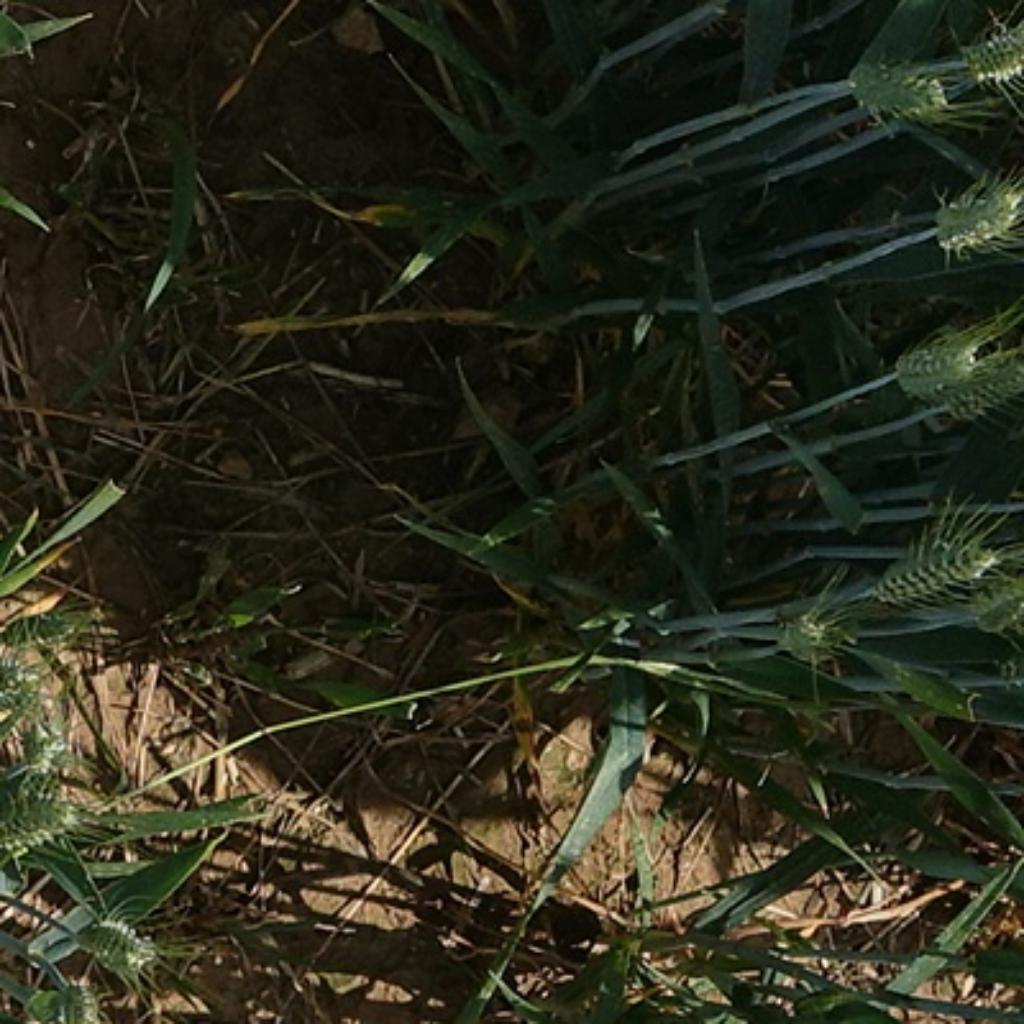0-0: (871, 529, 1004, 616), (886, 321, 1009, 400), (836, 53, 951, 135), (932, 172, 1024, 260), (0, 772, 80, 868), (772, 596, 864, 668), (939, 355, 1024, 427), (81, 911, 163, 985), (3, 602, 102, 660), (951, 17, 1024, 91), (973, 561, 1024, 642), (13, 718, 83, 776), (40, 971, 109, 1024), (0, 658, 52, 717)
